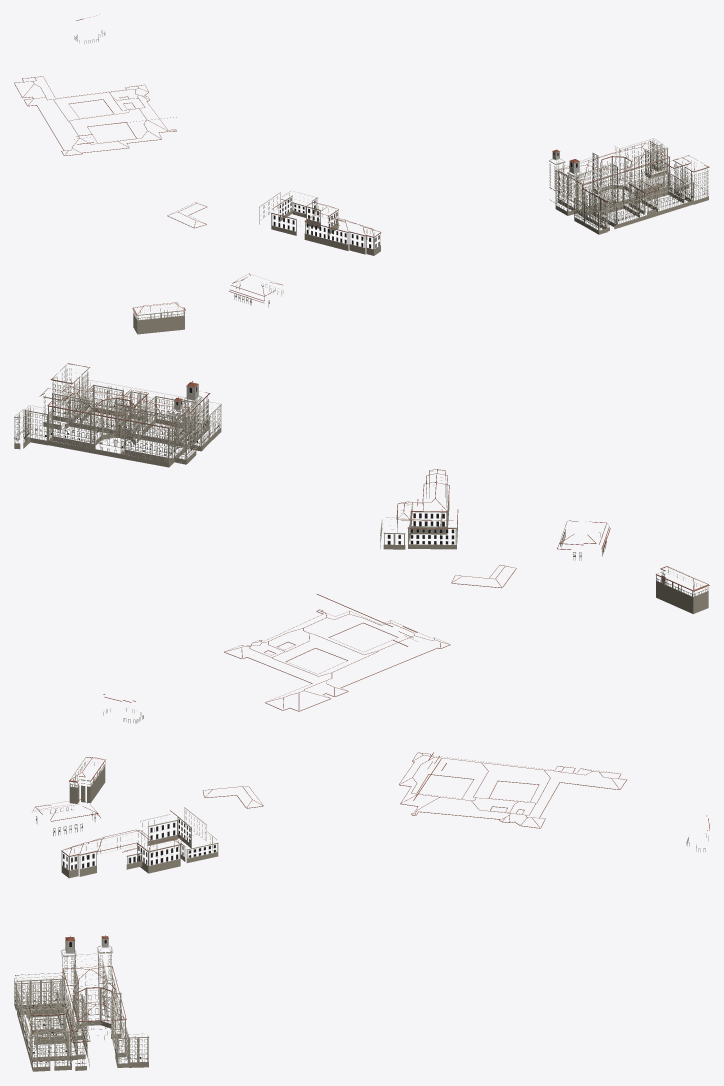
3 renders of one model, top to bottom at view 1: azimuth 30°, elevation 25°; view 2: azimuth 150°, elevation 25°; view 3: azimuth 270°, elevation 25°, orthographic. The views are drawn at different scales.
Visible parts, largest first — view 1: detail; view 2: detail; view 3: detail.
Part boxes in pixels (<box>): detail: <box>14,14,709,334</box>; detail: <box>14,363,709,723</box>; detail: <box>14,752,709,1071</box>.
Size of the model in its own units: 450 by 59.62 by 423.
